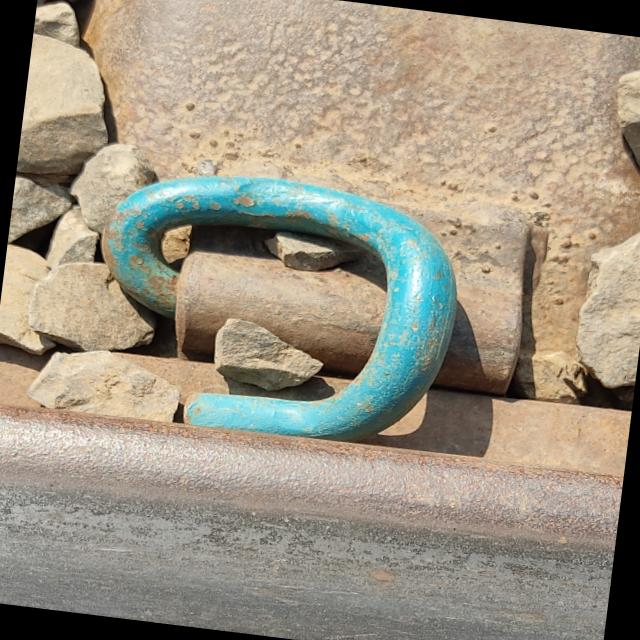track_bolt: (71, 150, 480, 454)
